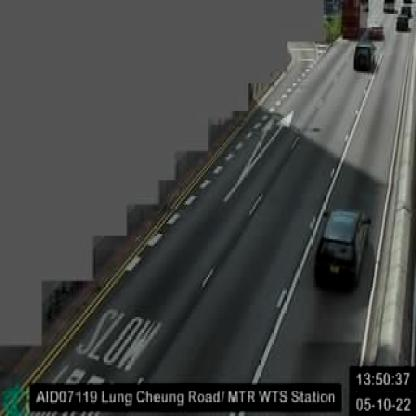Bus: (339, 0, 368, 37)
Car: (313, 207, 369, 294), (353, 45, 373, 71), (368, 21, 383, 38), (398, 14, 411, 33)
